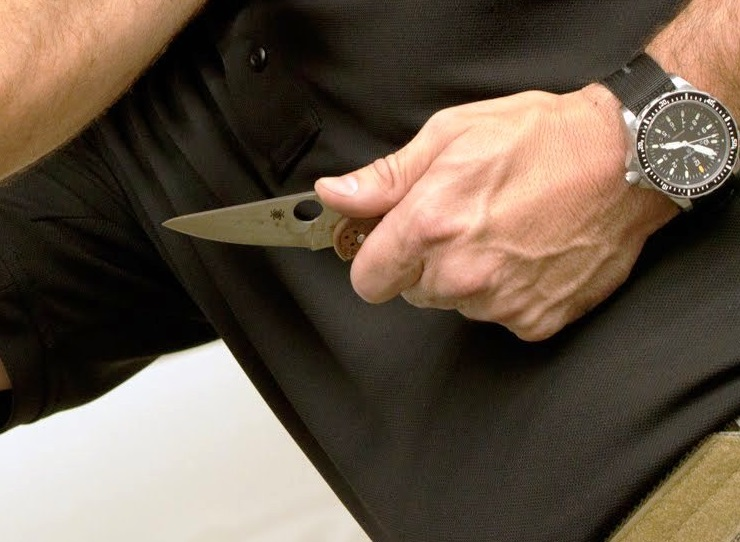knife: (148, 170, 474, 319)
